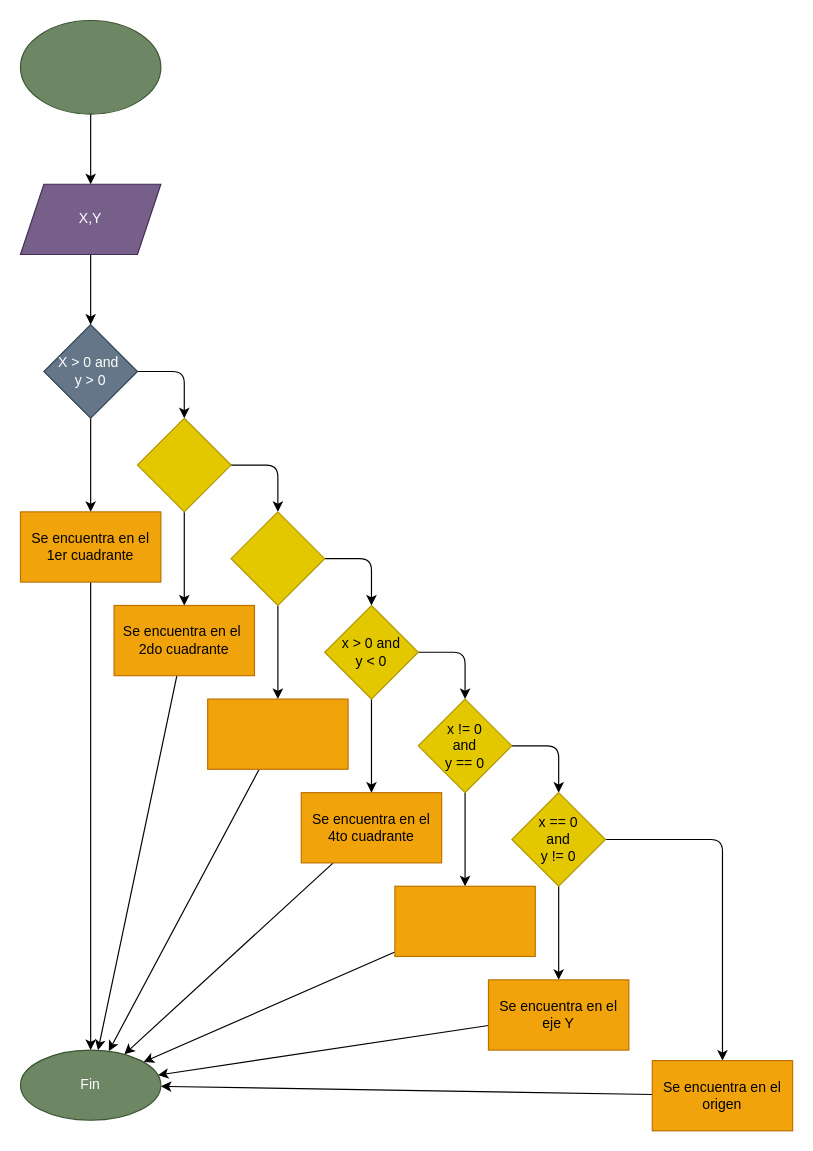
This 813x1151 diagram has some shape labels left out. Here are the shapes that lost their labels. From the top down, the centre of each, then its label:
At (90,66): "INICIO".
At (183,464): "x < 0 and y > 0".
At (277,558): "x < 0 and y < 0".
At (277,733): "Se encuentra en el 3er cuadrante".
At (464,920): "Se encuentra en el eje X".
